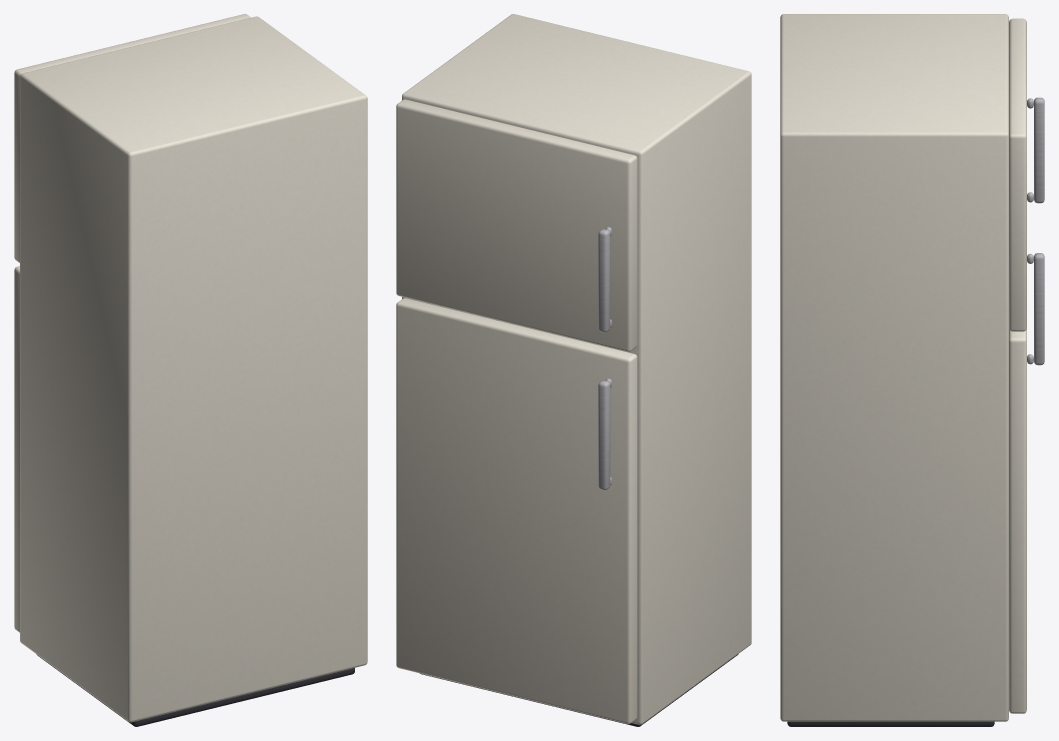
The model's file is SM_Fridge.fbx.
3 views of the same model, side by side, from view 1: azimuth 30°, elevation 25°; view 2: azimuth 150°, elevation 25°; view 3: azimuth 270°, elevation 25° (orthographic). The views are drawn at different scales.
Parts seen in each view (by area): view 1: SM_Fridge; view 2: SM_Fridge; view 3: SM_Fridge.
Boxes of the visible parts, <box> form: SM_Fridge: <box>14,14,367,726</box>; SM_Fridge: <box>396,14,751,726</box>; SM_Fridge: <box>780,14,1044,726</box>.
Size of what is drawn, in the model's own units: 0.8 by 1.85 by 0.74.
3 materials, 3 textured.
